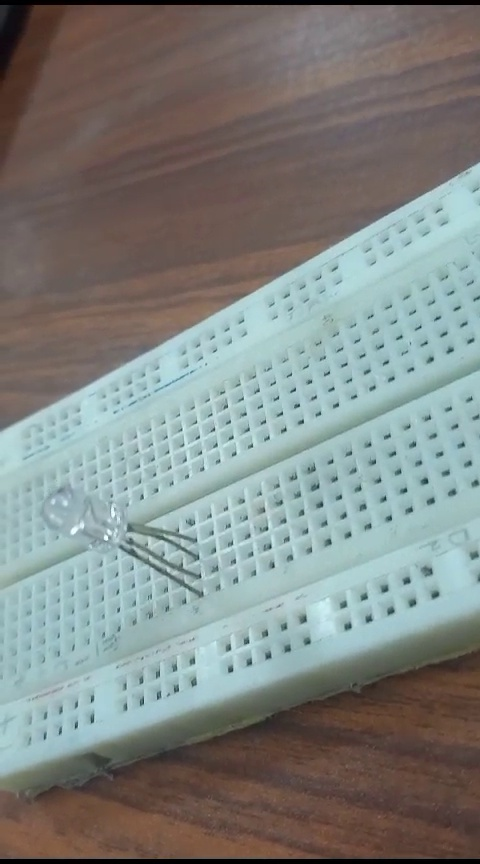LED: (36, 483, 223, 605)
